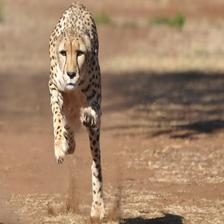Cheetah: (46, 0, 107, 222)
